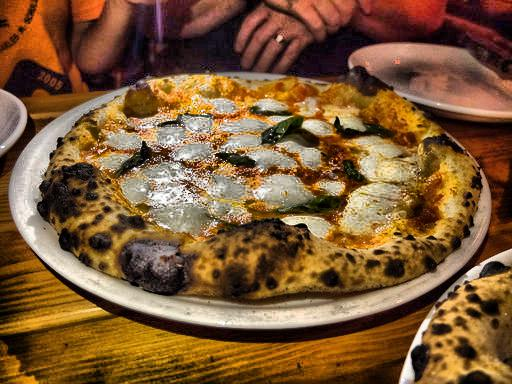pizza: (25, 65, 501, 310)
